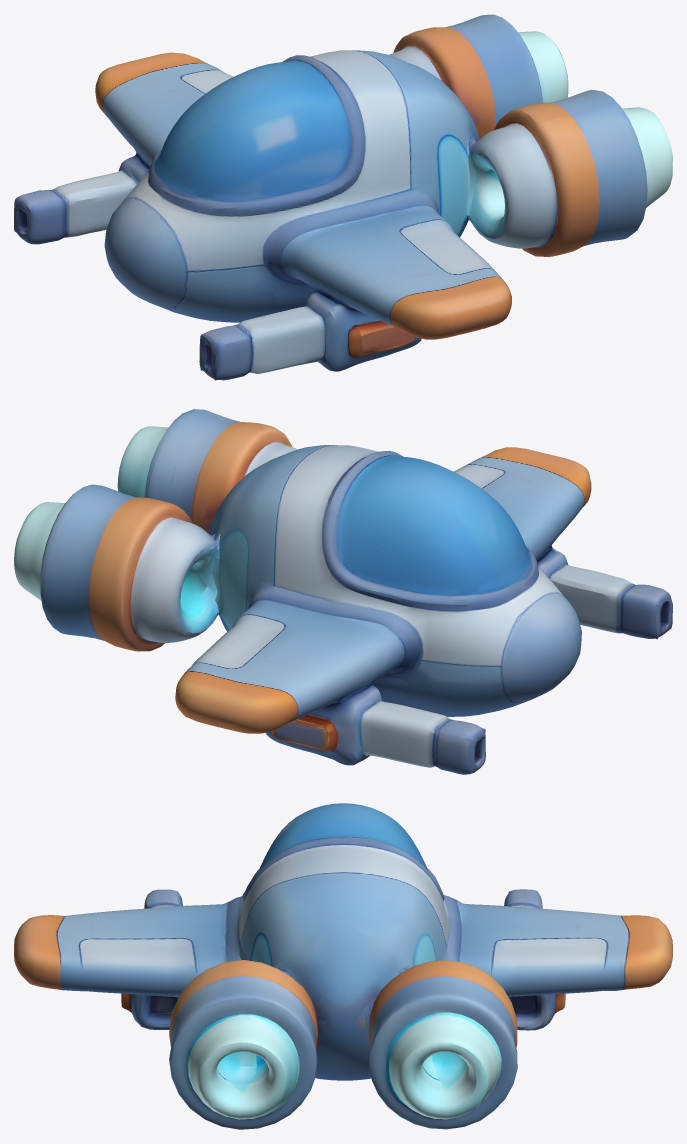
The model's file is Meshy_AI_Azure_Orbit_Jet_0630111604_texture.glb.
3 views of the same model, one above another, from view 1: azimuth 30°, elevation 25°; view 2: azimuth 150°, elevation 25°; view 3: azimuth 270°, elevation 25° (orthographic). The views are drawn at different scales.
Size of the model in its own units: 1.58 by 0.709 by 1.91.
Materials: 1 (1 with a texture image).
